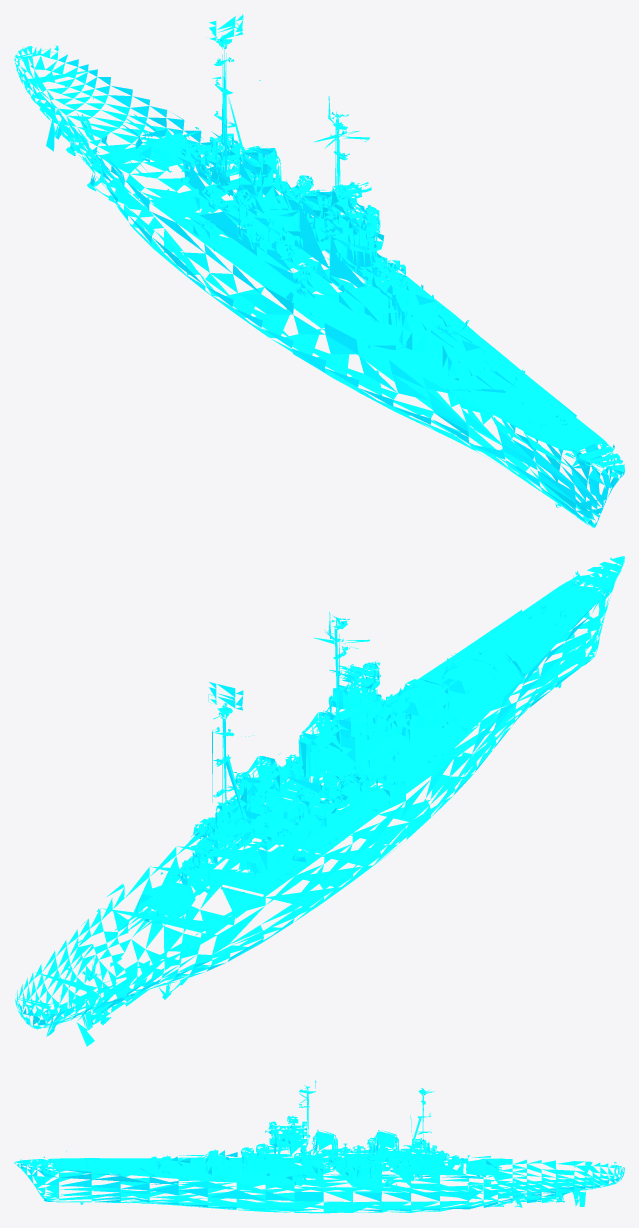
The model's file is Stalingrad.glb.
The picture shows the model from 3 angles, top to bottom: view 1: azimuth 30°, elevation 25°; view 2: azimuth 150°, elevation 25°; view 3: azimuth 270°, elevation 25°; orthographic projection. The views are drawn at different scales.
Size of the model in its own units: 2.13 by 4.12 by 18.23.
